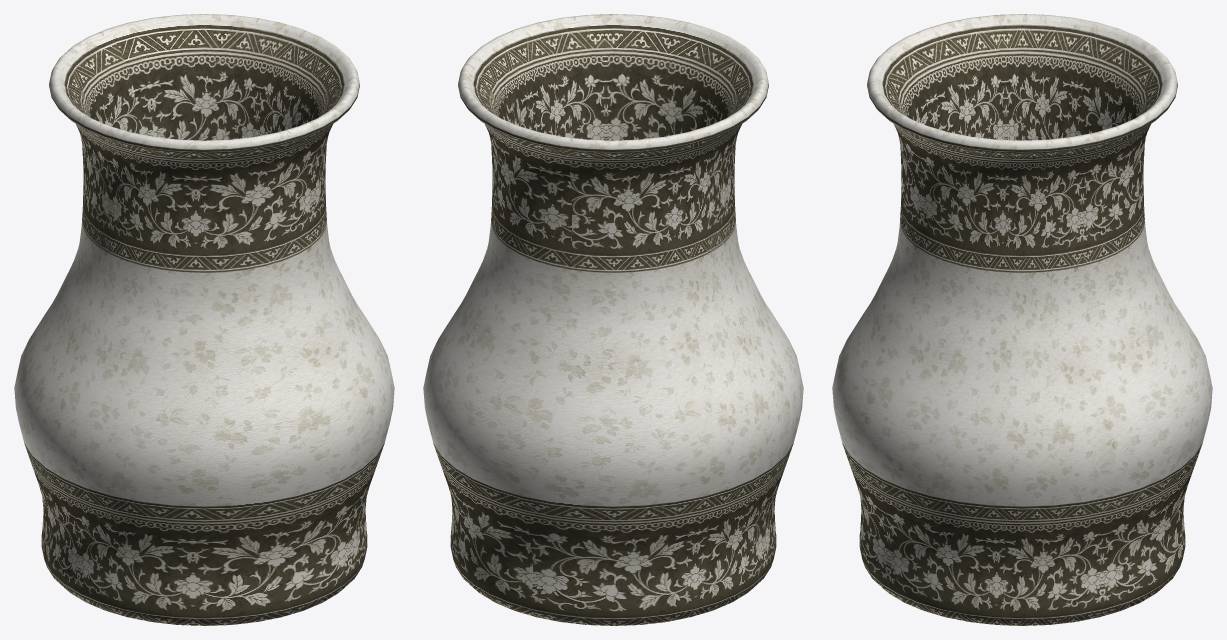
Rendered from Vase_05.FBX.
3 renders of one model, left to right at view 1: azimuth 30°, elevation 25°; view 2: azimuth 150°, elevation 25°; view 3: azimuth 270°, elevation 25°, orthographic.
Visible parts, largest first — view 1: Vase_05; view 2: Vase_05; view 3: Vase_05.
Boxes of the visible parts, x1,y1,x2,y2 form: Vase_05: (14, 14, 394, 625); Vase_05: (423, 14, 803, 625); Vase_05: (832, 14, 1212, 625).
Size of the model in its own units: 449 by 449 by 633.
